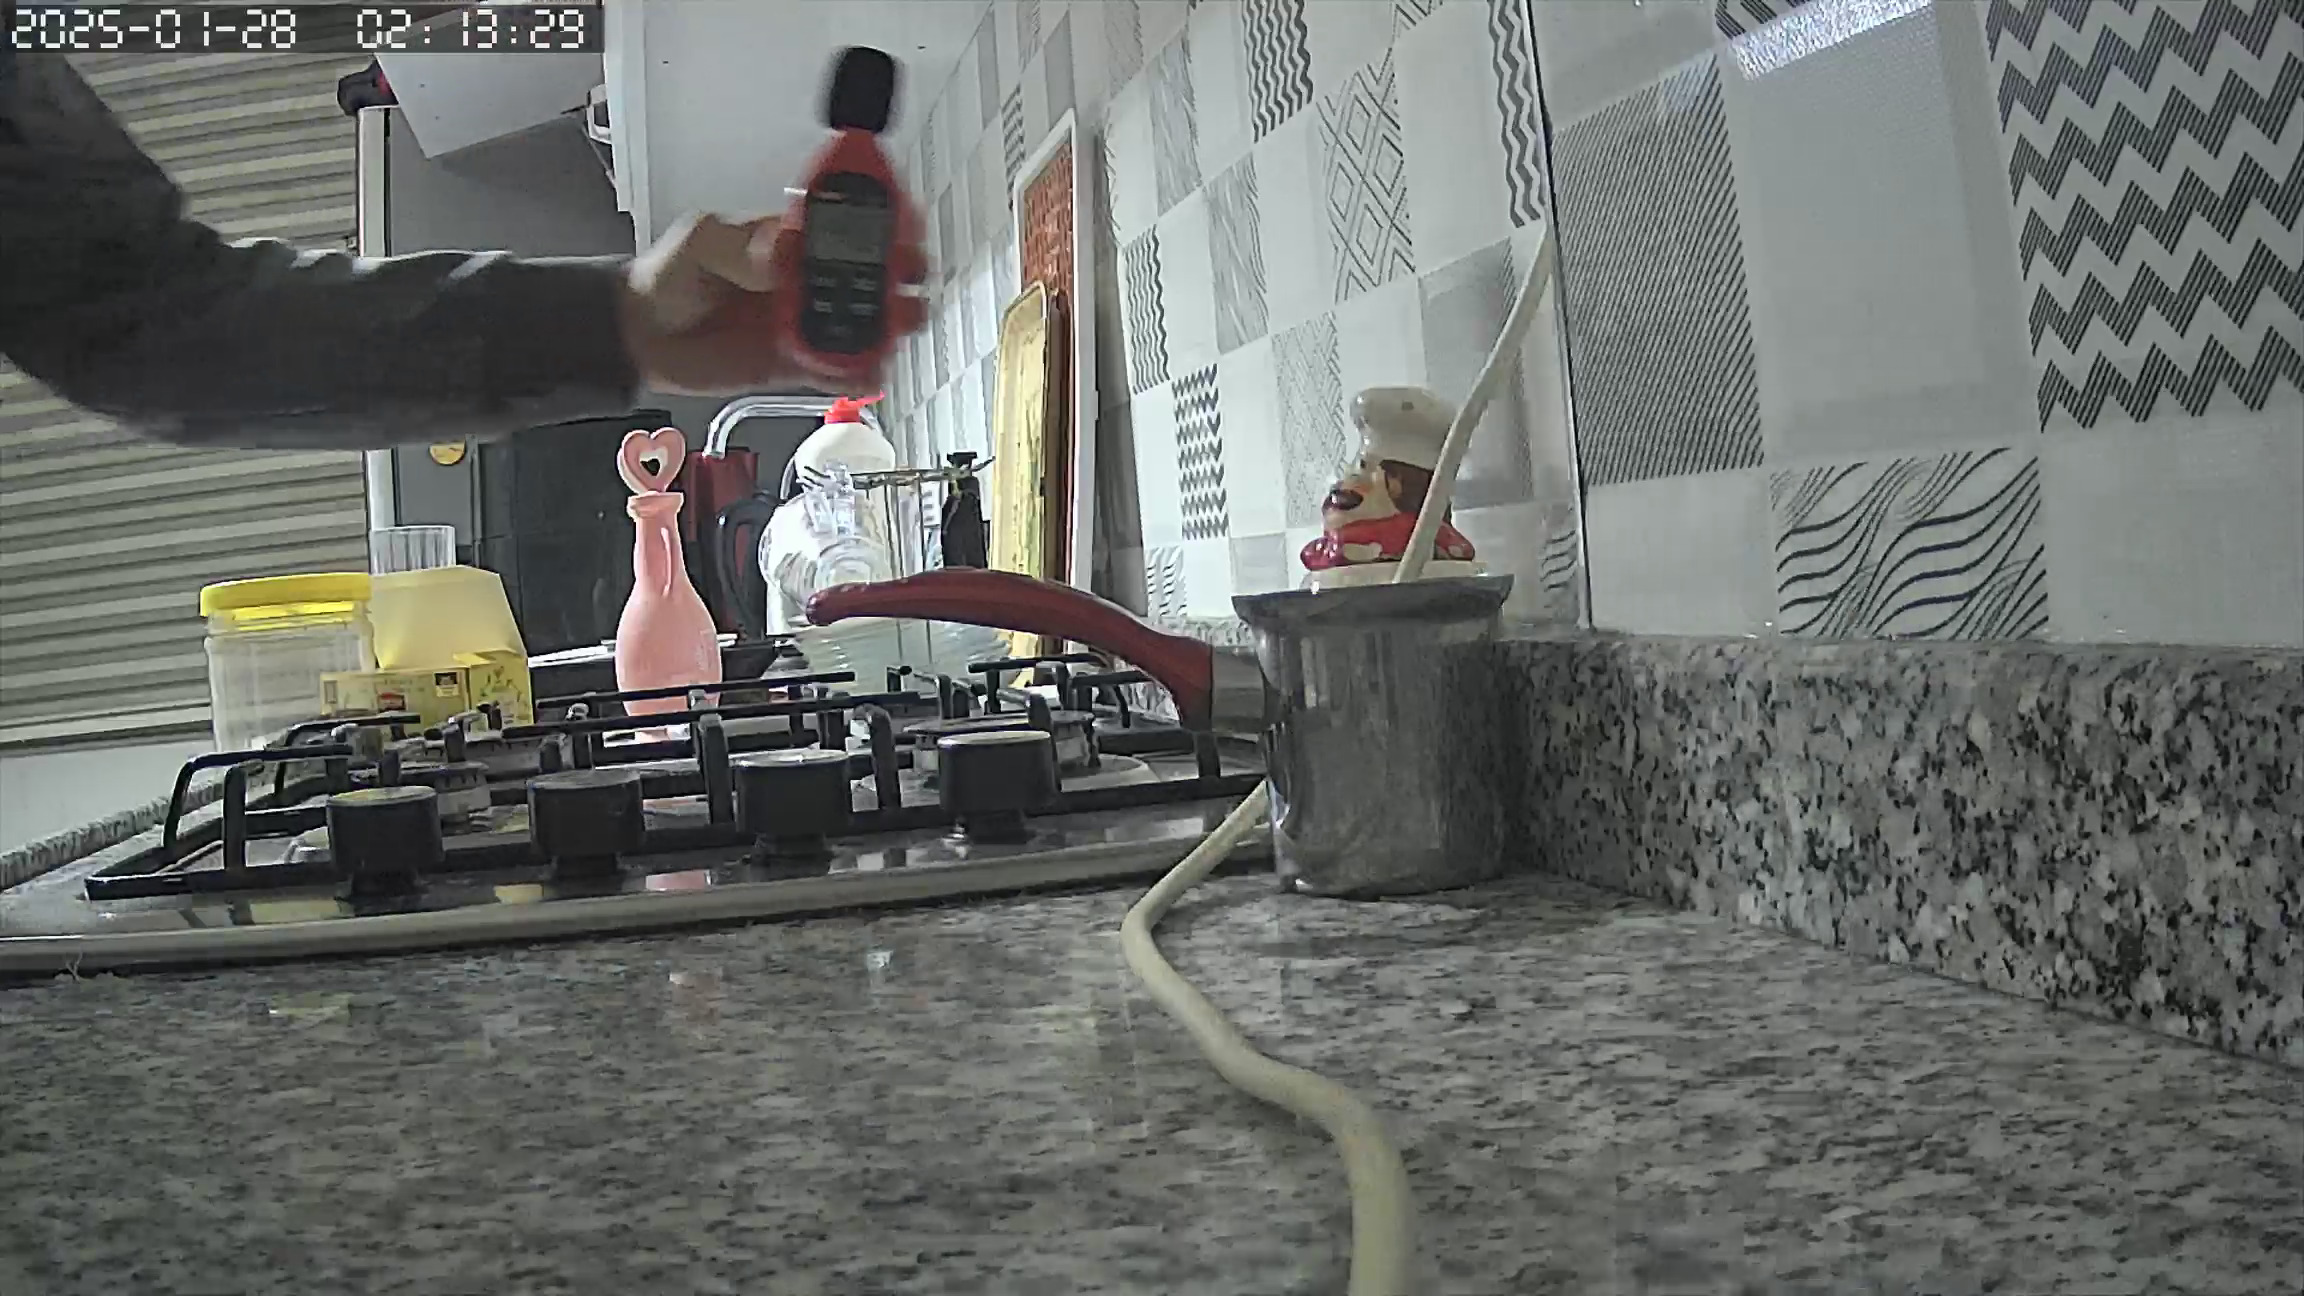screen: (809, 206, 885, 260)
